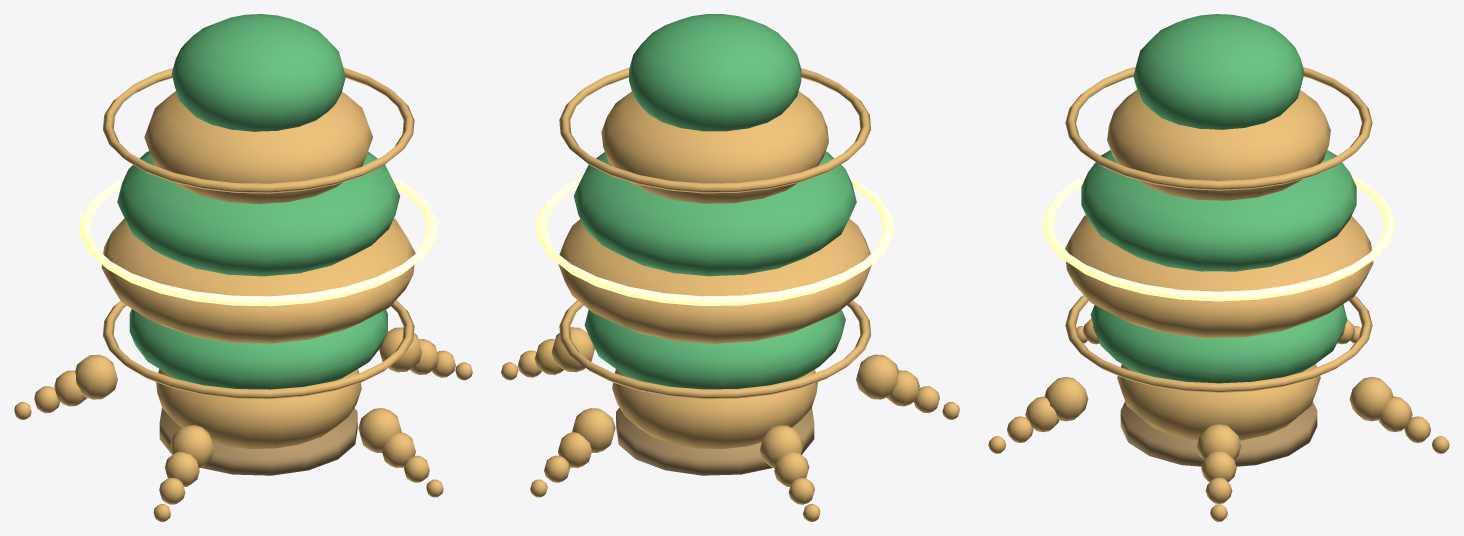
Rendered from egg_jungle_02.glb.
3 renders of one model, left to right at view 1: azimuth 30°, elevation 25°; view 2: azimuth 150°, elevation 25°; view 3: azimuth 270°, elevation 25°, orthographic.
Parts seen in each view (by area): view 1: ball; view 2: ball; view 3: ball.
Part boxes in pixels (x1,y1,x2,y2): ball: (14, 14, 472, 521); ball: (501, 14, 959, 521); ball: (988, 14, 1449, 521).
Size of the model in its own units: 0.9843 by 0.99 by 1.03.
